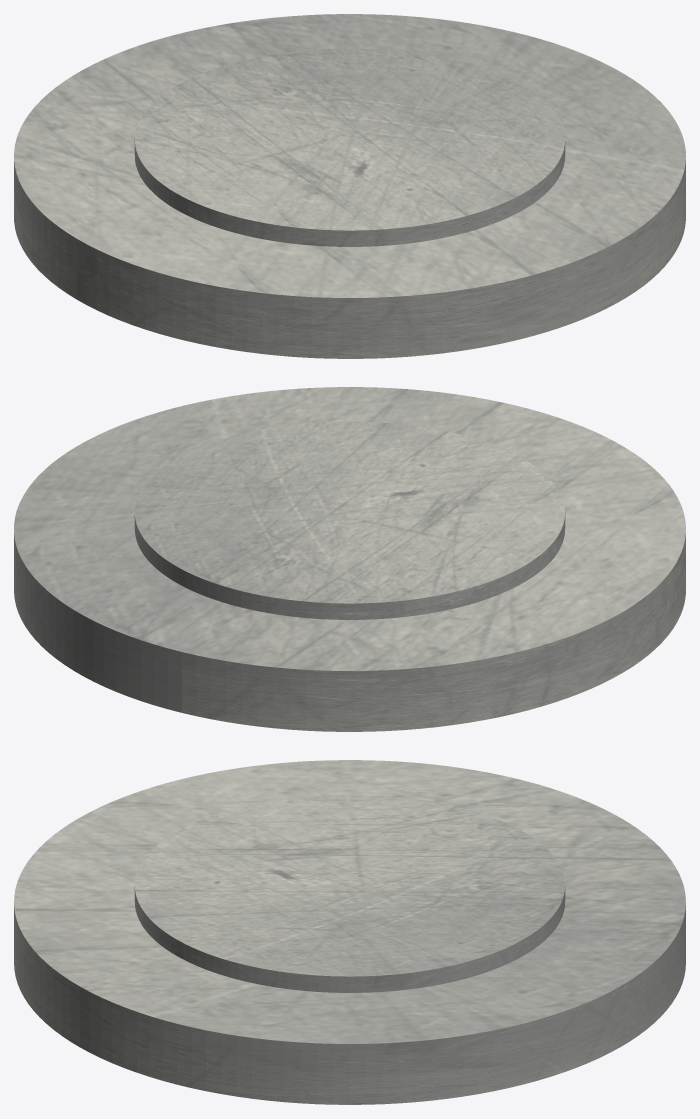
Rendered from vent.dae.
3 views of the same model, one above another, from view 1: azimuth 30°, elevation 25°; view 2: azimuth 150°, elevation 25°; view 3: azimuth 270°, elevation 25° (orthographic).
Parts seen in each view (by area): view 1: Cylinder, Cylinder.001; view 2: Cylinder, Cylinder.001; view 3: Cylinder, Cylinder.001.
Boxes of the visible parts, x1,y1,x2,y2 form: Cylinder: [14, 14, 685, 358]; Cylinder.001: [134, 48, 565, 246]; Cylinder: [14, 387, 685, 731]; Cylinder.001: [134, 421, 565, 619]; Cylinder: [14, 760, 685, 1104]; Cylinder.001: [134, 794, 565, 992].
Bounding box in the file's own units: 2 × 2 × 0.254.
1 material, 1 textured.
